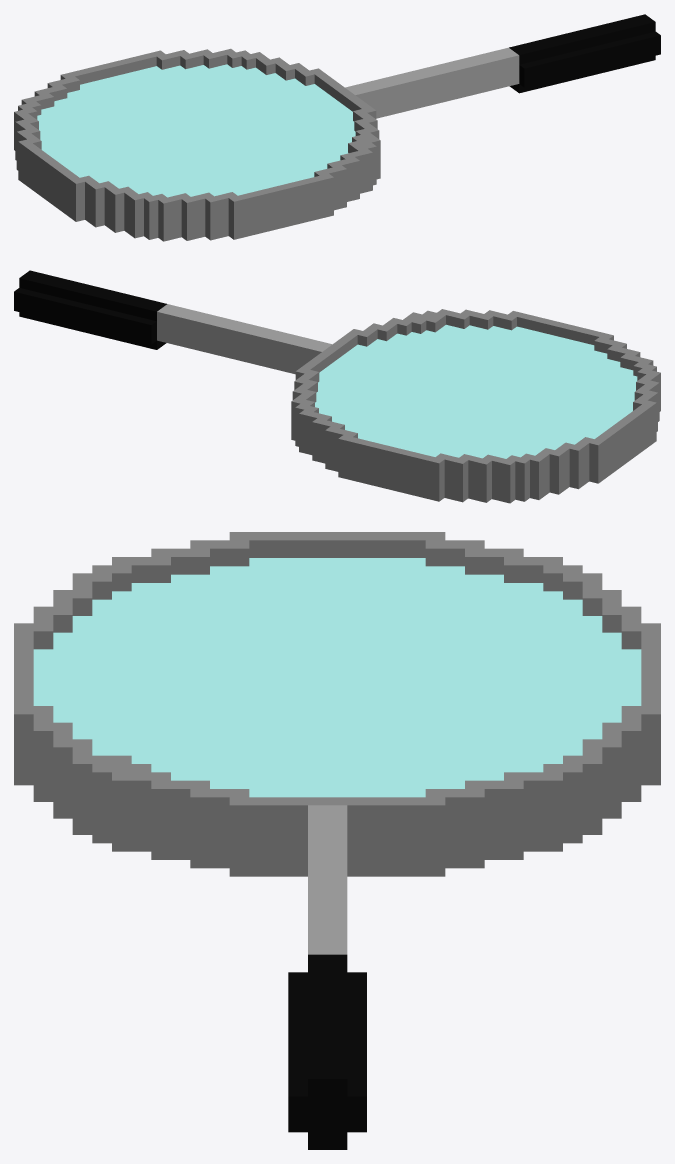
The model's file is MagnifyingGlass.vox.obj.
3 views of the same model, one above another, from view 1: azimuth 30°, elevation 25°; view 2: azimuth 150°, elevation 25°; view 3: azimuth 270°, elevation 25° (orthographic). The views are drawn at different scales.
Bounding box in the file's own units: 6.6 × 0.4 × 3.3.
Materials: 1 (1 with a texture image).
